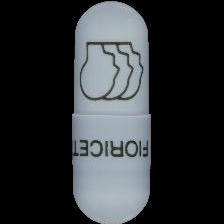42291-181: (0, 0, 224, 224)
